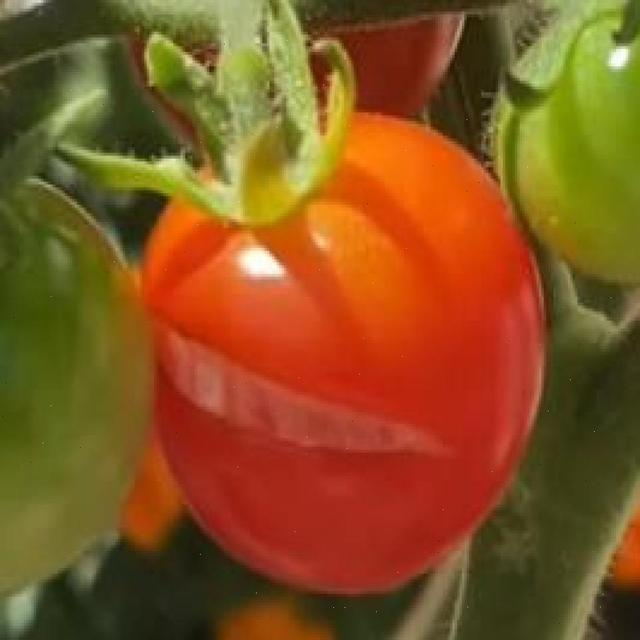Cracking Fruit: (96, 197, 309, 324)
